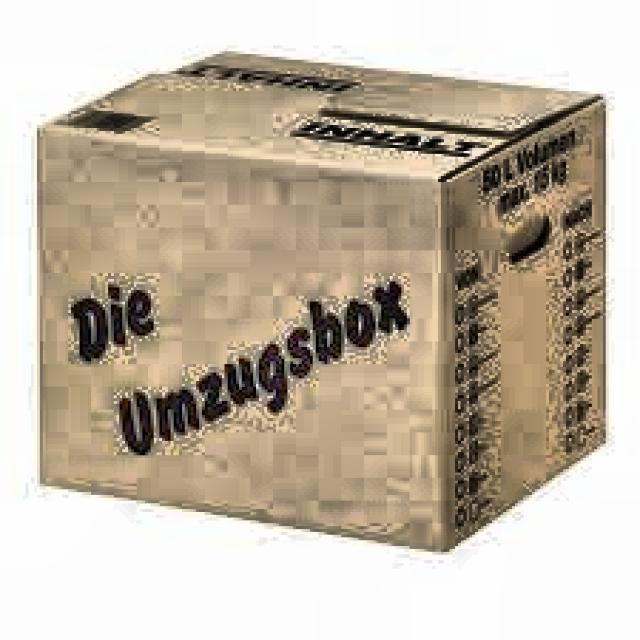cardboard: (34, 45, 609, 552)
